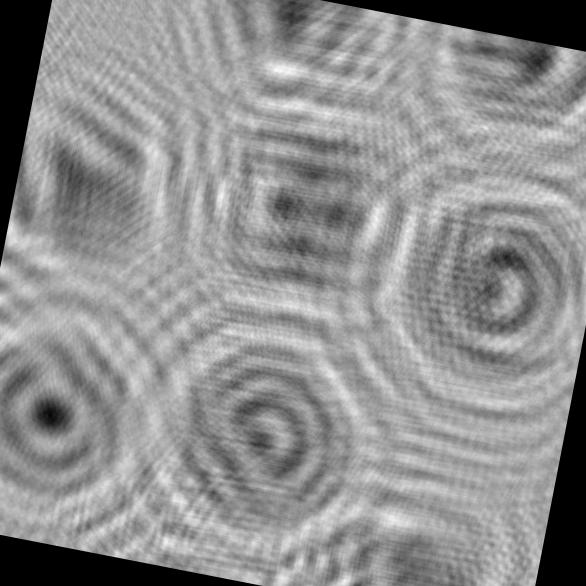A: (130, 0, 437, 166)
D: (87, 256, 444, 586)
G: (324, 121, 586, 462)
H: (151, 68, 468, 366)
P: (0, 245, 240, 571)
S: (378, 16, 586, 199)
T: (277, 433, 555, 586)
V: (0, 49, 241, 322)
